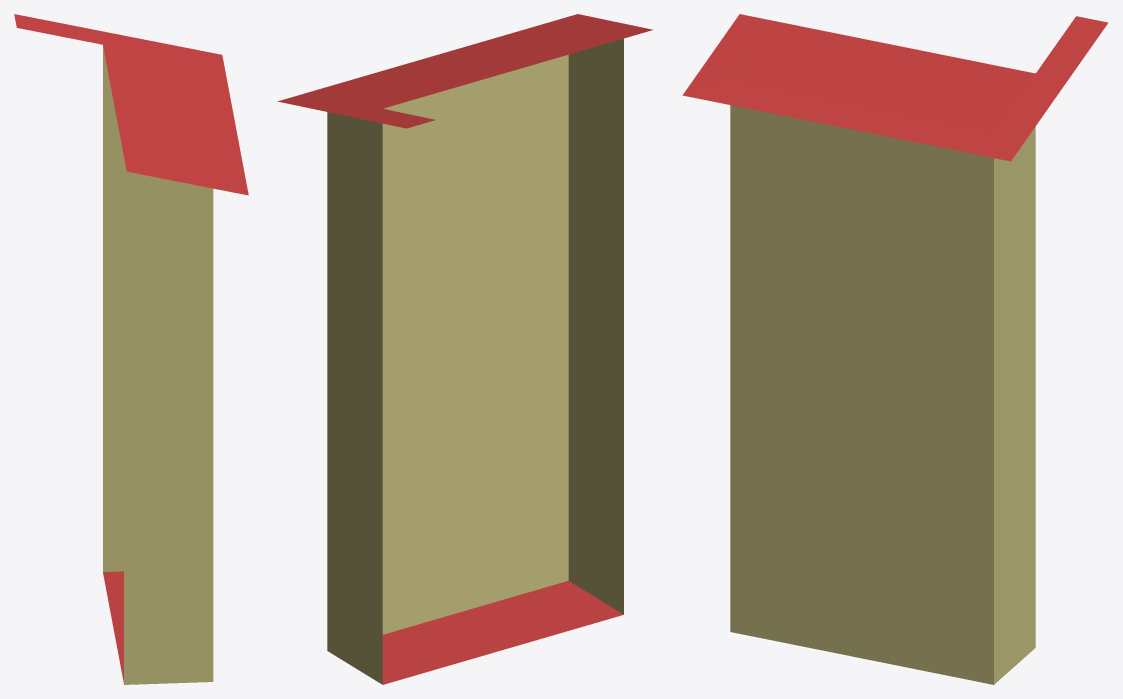
3 views of the same model, side by side, from view 1: azimuth 30°, elevation 25°; view 2: azimuth 150°, elevation 25°; view 3: azimuth 270°, elevation 25° (orthographic). The views are drawn at different scales.
Size of the model in its own units: 3.85 by 5.93 by 9.15.
